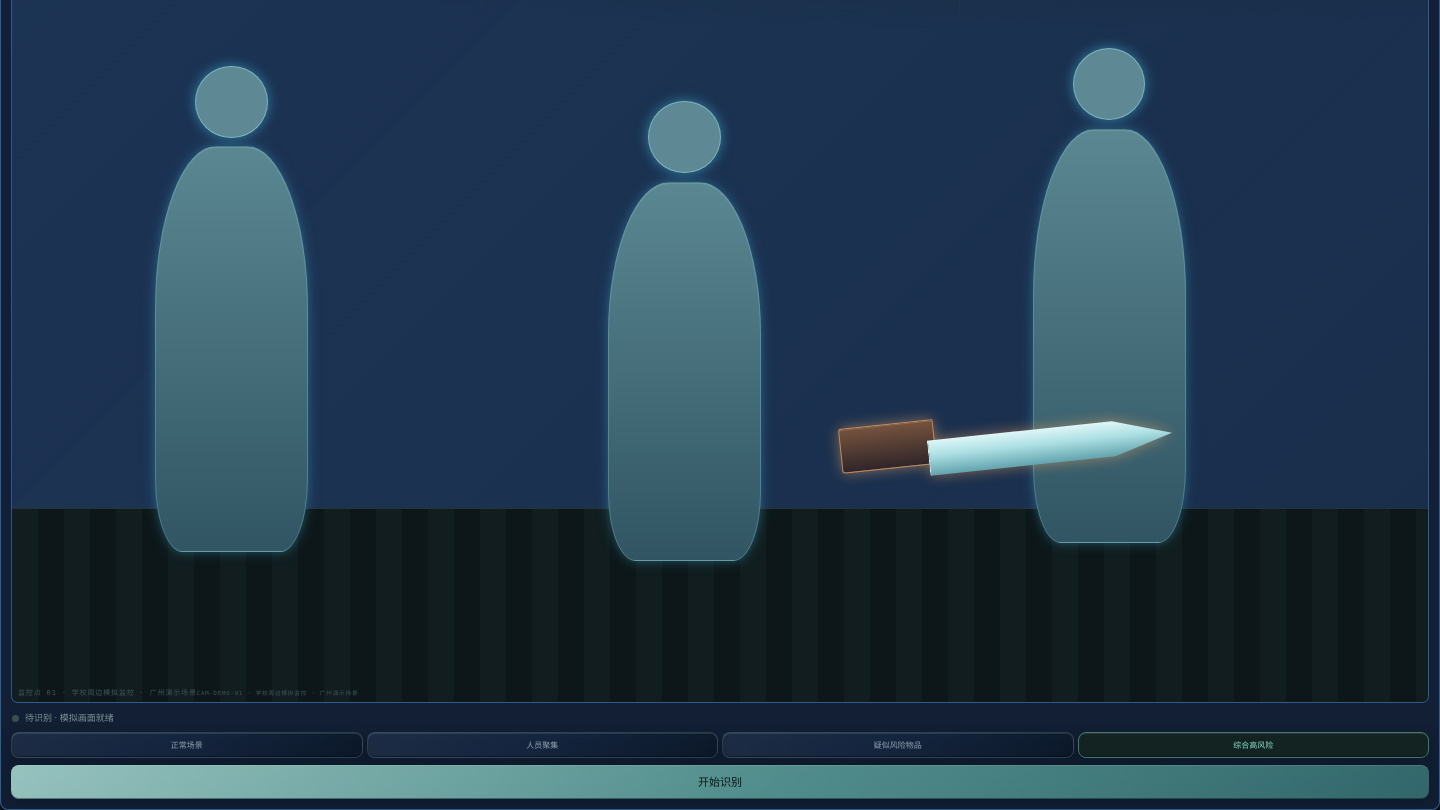
CVDetectionPanel › surfaces API failures without crashing
This screenshot has width=1440, height=810.
(page scrolled)
Click the button "开始识别": (720, 782) top-left (11, 765), bottom-right (1429, 799)
Wait 2200 ms
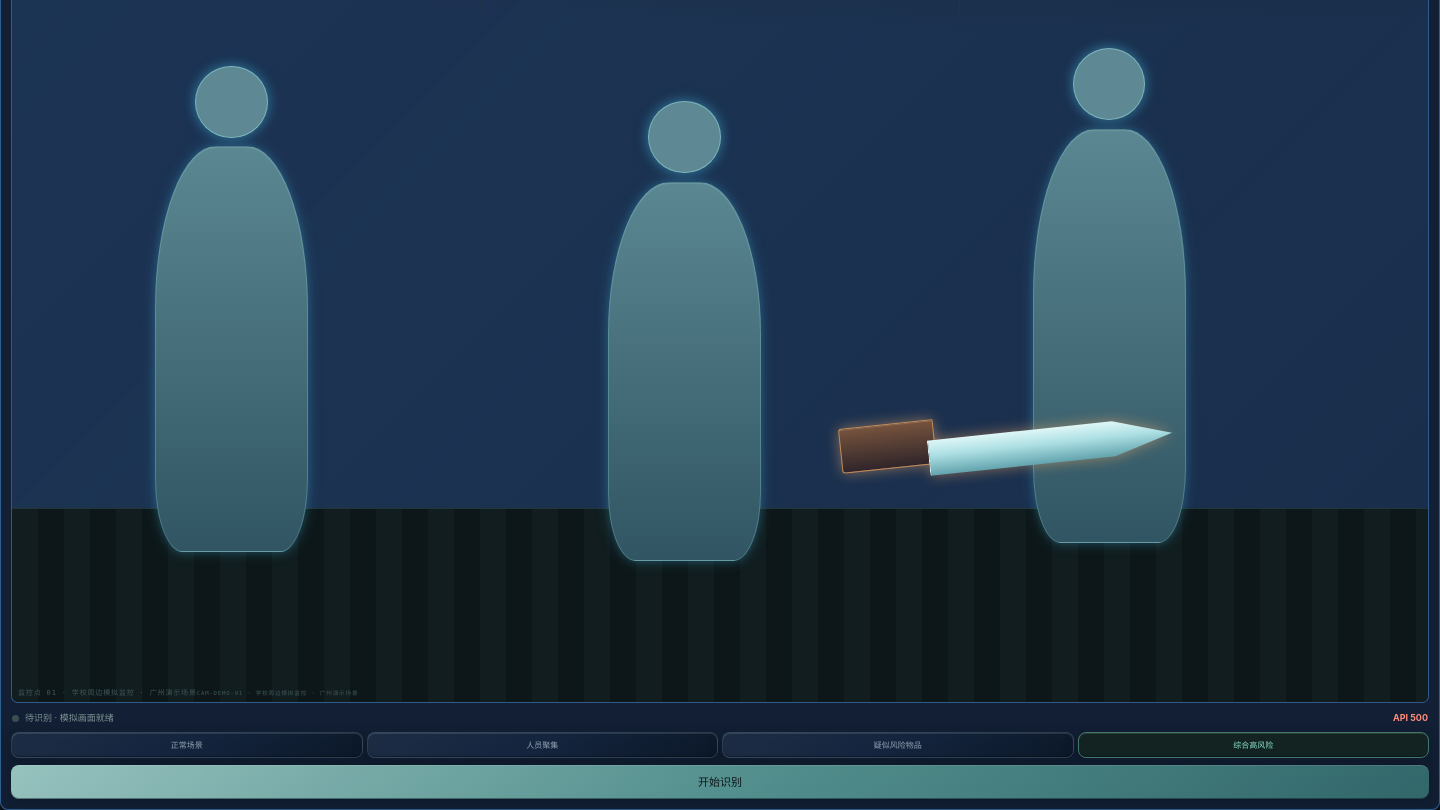
Now the text "API 500" is shown, box top-left (1393, 711), bottom-right (1428, 725)
